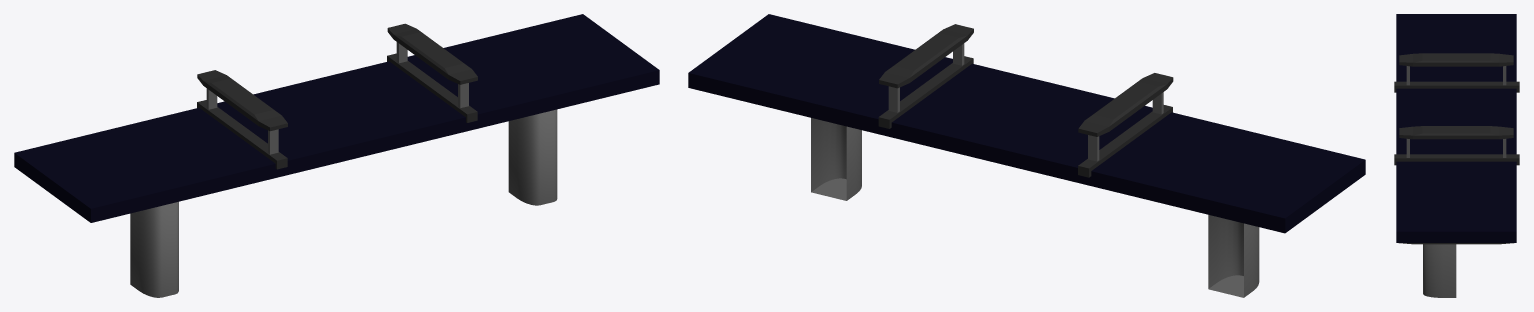
File: PraedatumBench.glb
3 renders of one model, left to right at view 1: azimuth 30°, elevation 25°; view 2: azimuth 150°, elevation 25°; view 3: azimuth 270°, elevation 25°, orthographic. The views are drawn at different scales.
Visible parts, largest first — view 1: Seat.002, Seat, Seat.001, Stand, Stand.001, Cube, Cube.001, SeatConnector.001, SeatConnector; view 2: Seat.002, Seat, Seat.001, Stand.001, Stand, Cube.001, Cube, SeatConnector.001, SeatConnector; view 3: Seat, Seat.002, Seat.001, Stand, Cube, Cube.001, SeatConnector.001, SeatConnector.
Part boxes in pixels (box(x1,y1,x2,y2)): Seat.002: box(14, 107, 281, 222); Seat: box(407, 14, 659, 130); Seat.001: box(217, 61, 469, 176); Stand: box(508, 109, 557, 205); Stand.001: box(130, 201, 178, 297); Cube: box(387, 23, 477, 84); Cube.001: box(197, 70, 287, 131); SeatConnector.001: box(197, 100, 287, 169); SeatConnector: box(387, 53, 477, 122); Seat.002: box(1085, 112, 1365, 233); Seat: box(688, 14, 952, 136); Seat.001: box(888, 63, 1152, 184); Stand.001: box(1208, 215, 1259, 297); Stand: box(811, 118, 861, 200); Cube.001: box(1078, 73, 1173, 136); Cube: box(879, 24, 973, 88); SeatConnector.001: box(1078, 105, 1172, 177); SeatConnector: box(878, 56, 973, 128); Seat: box(1396, 161, 1516, 244); Seat.002: box(1396, 14, 1516, 81); Seat.001: box(1396, 88, 1516, 154); Stand: box(1423, 244, 1456, 297); Cube: box(1399, 126, 1513, 139); Cube.001: box(1399, 53, 1513, 66); SeatConnector.001: box(1394, 81, 1519, 92); SeatConnector: box(1394, 154, 1519, 165).
Bounding box in the file's own units: 8.56 × 2.31 × 2.09.
